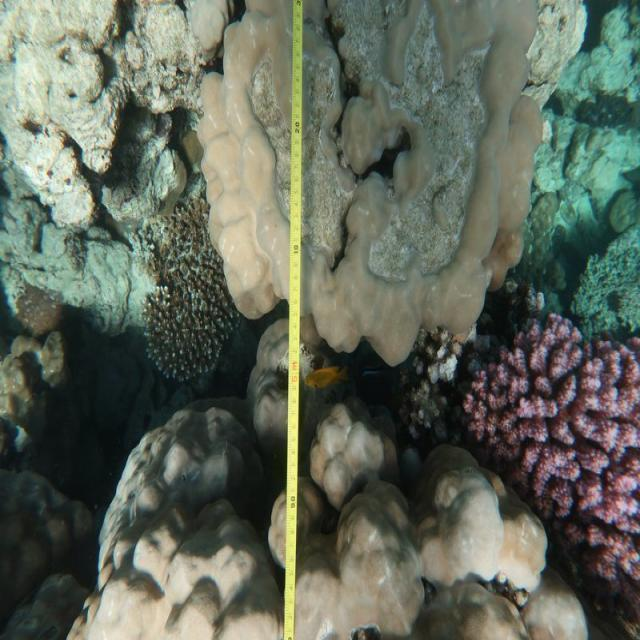Healthy Coral: (459, 308, 640, 601)
